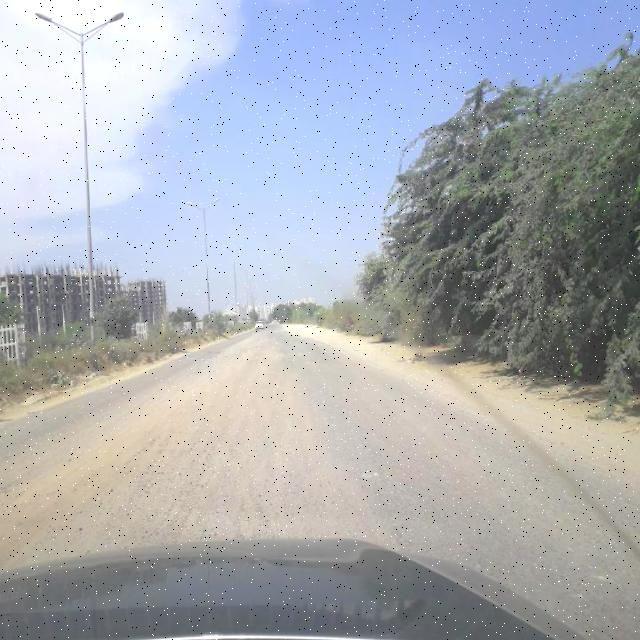D40: (42, 389, 320, 539), (4, 464, 38, 505)
